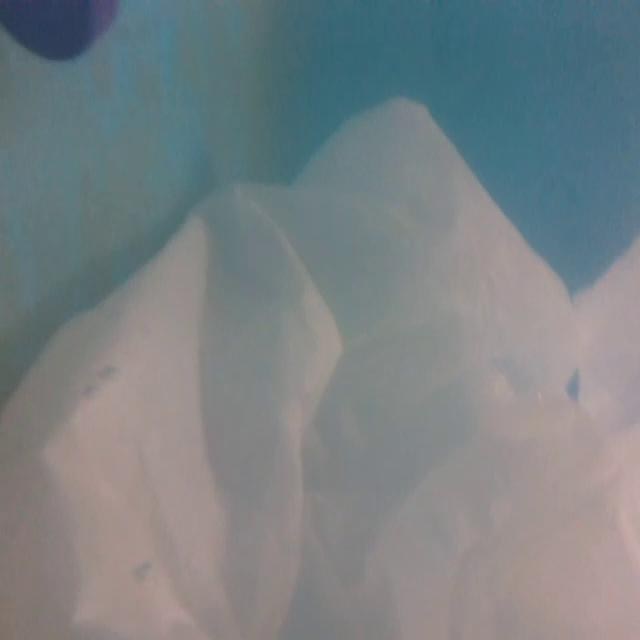plastic bags: (0, 89, 640, 640)
plastic bottle: (0, 0, 159, 79)
